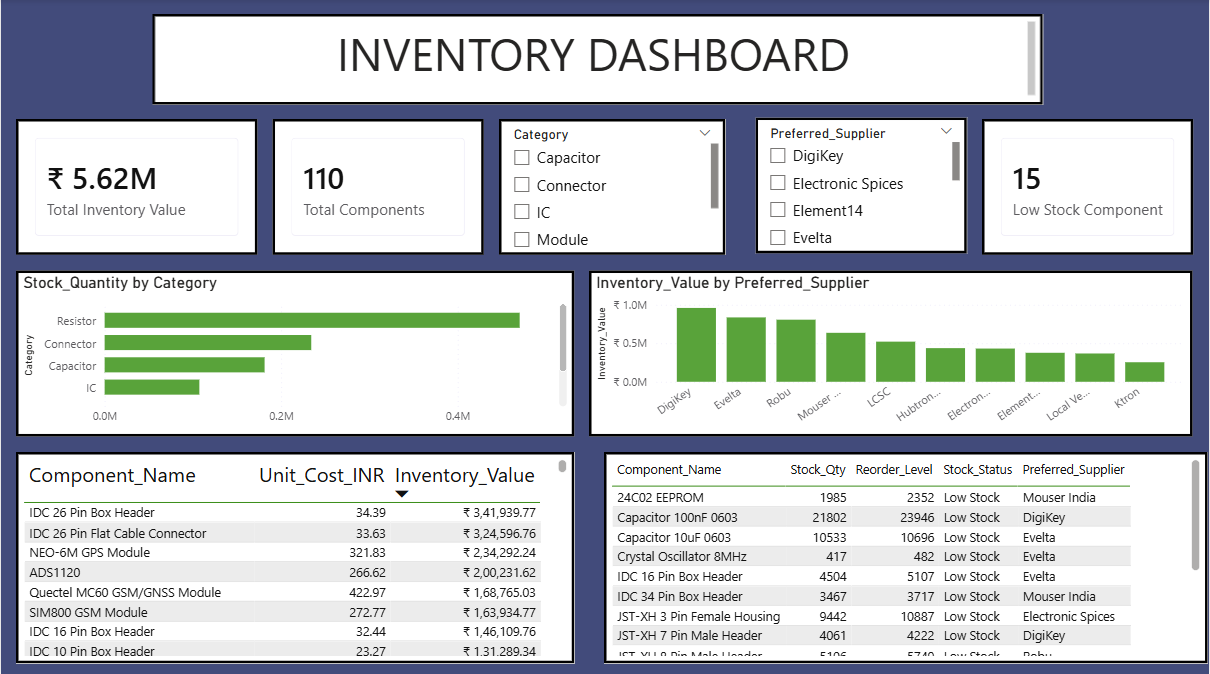

What the dashboard file says about the page in this screenshot:
{"tool":"powerbi","page":{"name":"Page 1","canvas":[1280,720],"ordinal":0},"visuals":[{"type":"cardVisual","fields":{"Data":["Sum(Component_Master.Inventory_Value)"]},"box":[16,128,256,144],"z":0},{"type":"cardVisual","fields":{"Data":["Count(Component_Master.Component_Name)"]},"box":[288,128,224,144],"z":1000},{"type":"barChart","fields":{"Category":["Component_Master.Category"],"Y":["Sum(Component_Master.Stock_Qty)"]},"box":[16,288,592,176],"z":2000},{"type":"tableEx","fields":{"Values":["Component_Master.Component_Name","Component_Master.Stock_Qty","Component_Master.Reorder_Level","Component_Master.Stock_Status","Component_Master.Preferred_Supplier"]},"box":[640,480,640,224],"z":3000},{"type":"cardVisual","fields":{"Data":["Component_Master.Low Stock Count"]},"box":[1040,128,224,144],"z":4000},{"type":"slicer","fields":{"Values":["Component_Master.Category"]},"box":[528,128,240,144],"z":5000},{"type":"columnChart","fields":{"Category":["Component_Master.Preferred_Supplier"],"Y":["Sum(Component_Master.Inventory_Value)"]},"box":[624,288,640,176],"z":6000},{"type":"tableEx","fields":{"Values":["Component_Master.Component_Name","Component_Master.Unit_Cost_INR","Component_Master.Inventory_Value"]},"box":[16,480,592,224],"z":7000},{"type":"slicer","fields":{"Values":["Component_Master.Preferred_Supplier"]},"box":[800,126.4,224,144],"z":8000},{"type":"textbox","box":[160,16,944,96],"z":9000}]}

Visuals, with their boxes in screenshot pixels (x1, y1, x2, y2), scaled from the page's 1280x720 canvas onto the 1210x674 screenshot:
cardVisual - Sum(Component_Master.Inventory_Value): bbox=(15, 120, 257, 255)
cardVisual - Count(Component_Master.Component_Name): bbox=(272, 120, 484, 255)
barChart - Component_Master.Category x Sum(Component_Master.Stock_Qty): bbox=(15, 270, 575, 434)
tableEx - Component_Master.Component_Name x Component_Master.Stock_Qty: bbox=(605, 449, 1209, 659)
cardVisual - Component_Master.Low Stock Count: bbox=(983, 120, 1195, 255)
slicer - Component_Master.Category: bbox=(499, 120, 726, 255)
columnChart - Component_Master.Preferred_Supplier x Sum(Component_Master.Inventory_Value): bbox=(590, 270, 1195, 434)
tableEx - Component_Master.Component_Name x Component_Master.Unit_Cost_INR: bbox=(15, 449, 575, 659)
slicer - Component_Master.Preferred_Supplier: bbox=(756, 118, 968, 253)
textbox: bbox=(151, 15, 1044, 105)
